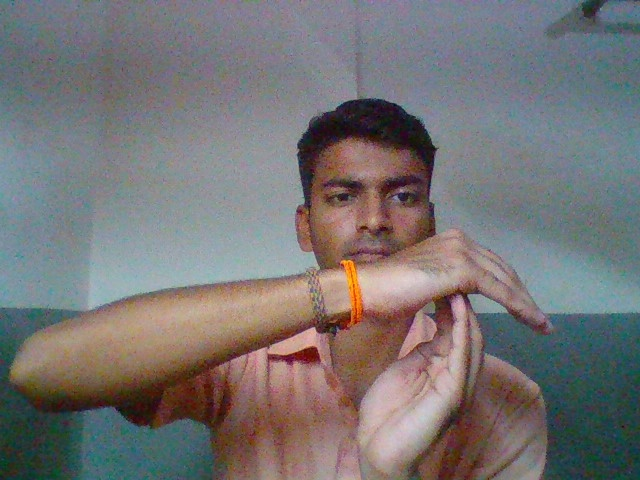J: (330, 216, 573, 478)
